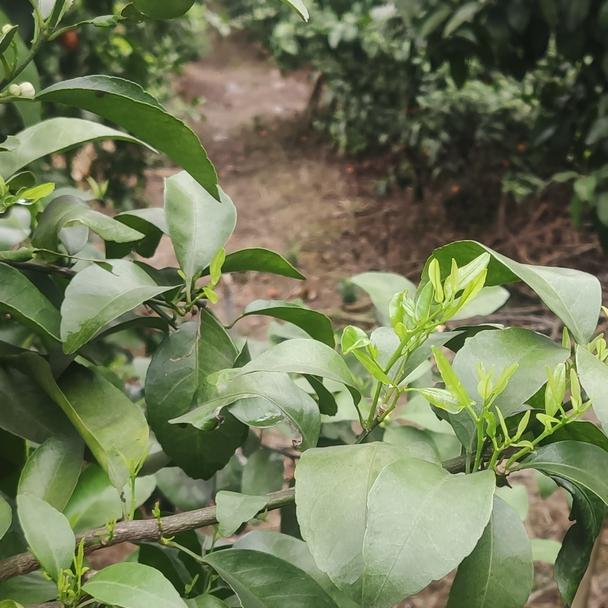shoot: (364, 251, 485, 388), (441, 344, 515, 465), (534, 359, 593, 452)
